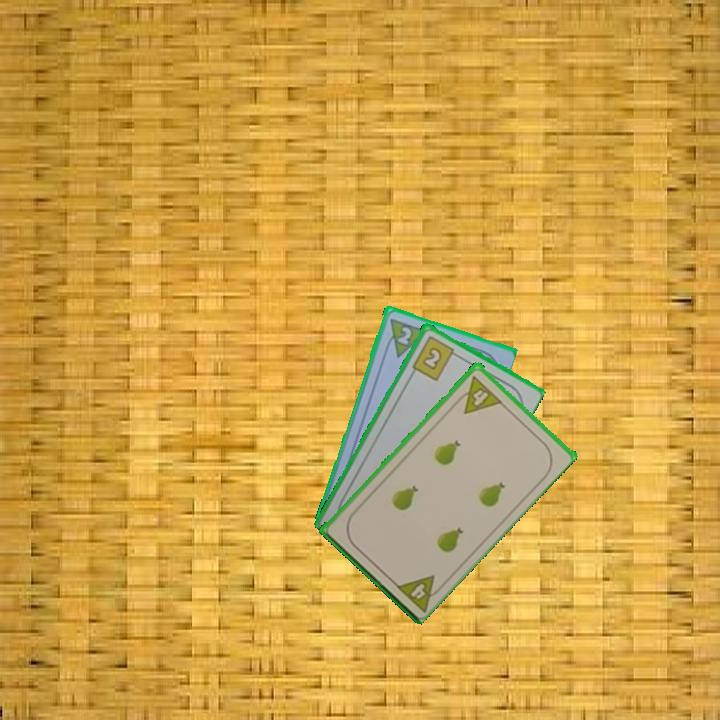2b: (408, 332, 461, 383)
2p: (380, 314, 429, 360)
4p: (391, 571, 447, 614), (451, 372, 504, 416)
